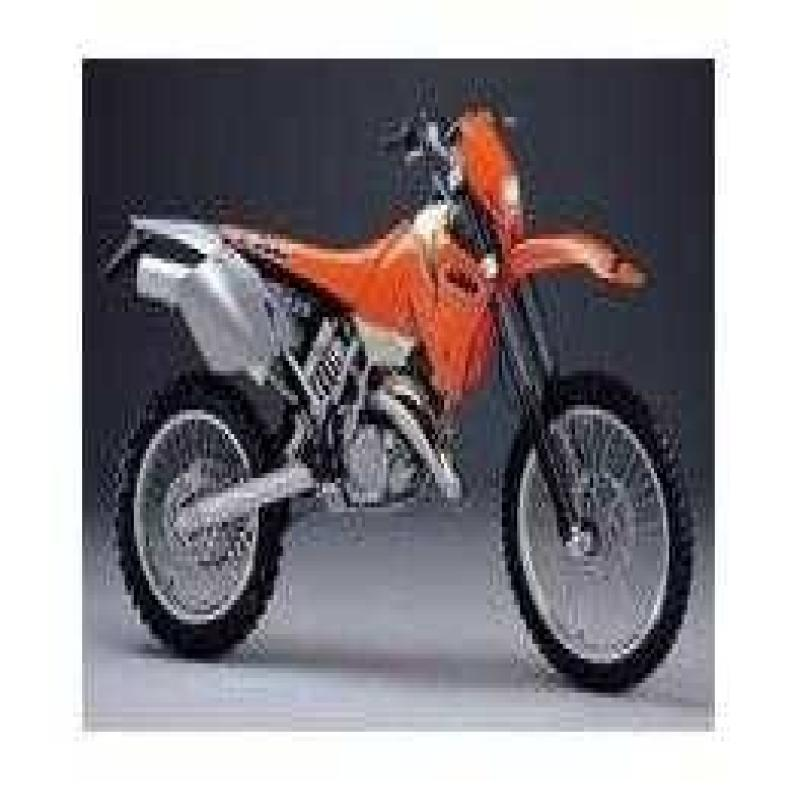bike: (98, 69, 701, 714)
